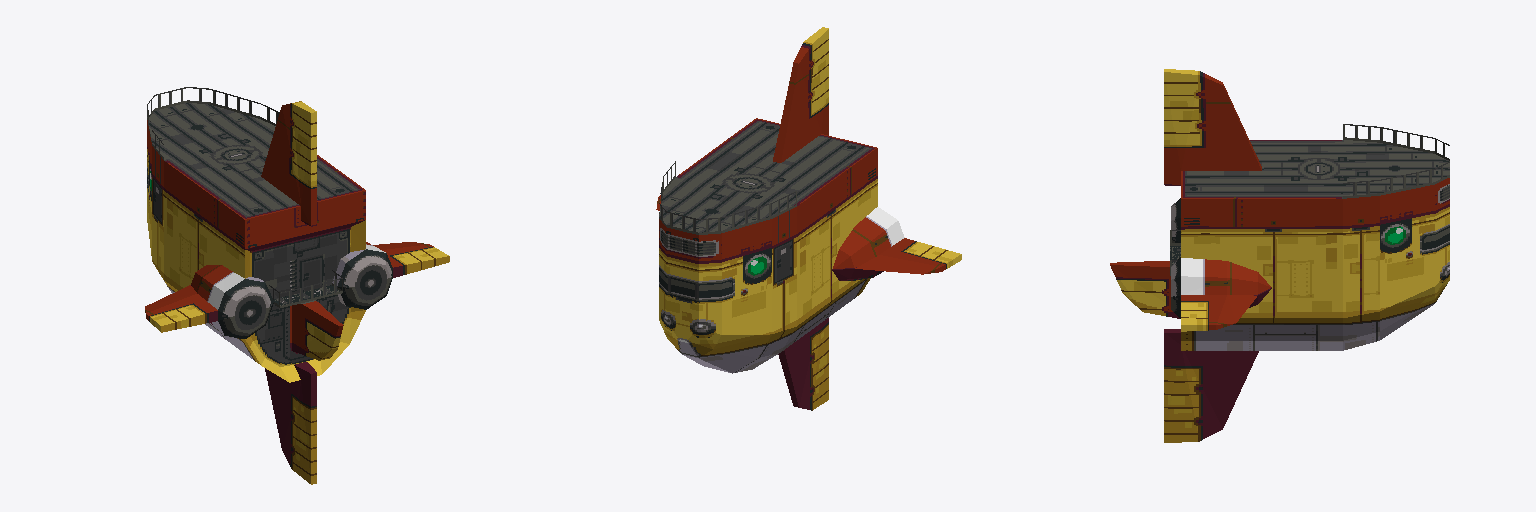
The picture shows the model from 3 angles: view 1: azimuth 30°, elevation 25°; view 2: azimuth 150°, elevation 25°; view 3: azimuth 270°, elevation 25°; orthographic projection.
Parts seen in each view (by area): view 1: Mesh; view 2: Mesh; view 3: Mesh.
Boxes of the visible parts, x1,y1,x2,y2 form: Mesh: [145, 87, 449, 484]; Mesh: [656, 27, 961, 410]; Mesh: [1110, 69, 1449, 442].
Size of the model in its own units: 624 by 768 by 638.
1 materials, 1 textured.